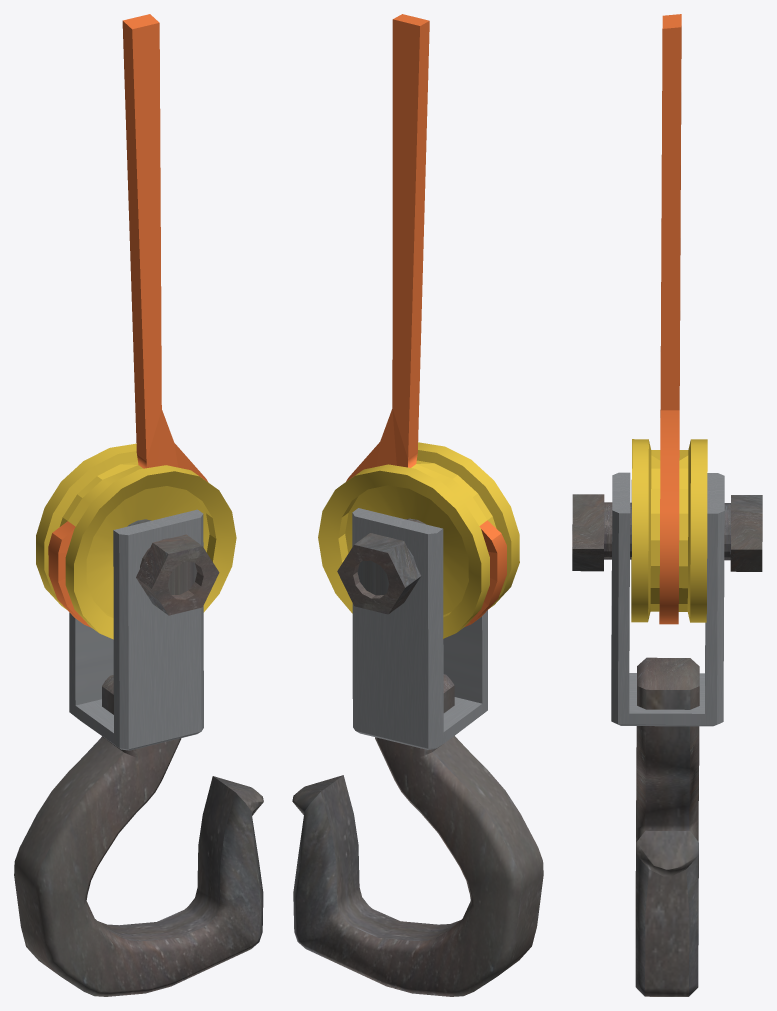
Rendered from Hook.fbx.
3 renders of one model, left to right at view 1: azimuth 30°, elevation 25°; view 2: azimuth 150°, elevation 25°; view 3: azimuth 270°, elevation 25°, orthographic.
Parts seen in each view (by area): view 1: Hook; view 2: Hook; view 3: Hook.
Part boxes in pixels (box(x1,y1,x2,y2)): Hook: box(14, 14, 263, 996); Hook: box(292, 14, 543, 996); Hook: box(572, 14, 762, 996).
Size of the model in its own units: 0.6561 by 2.54 by 0.4625.
